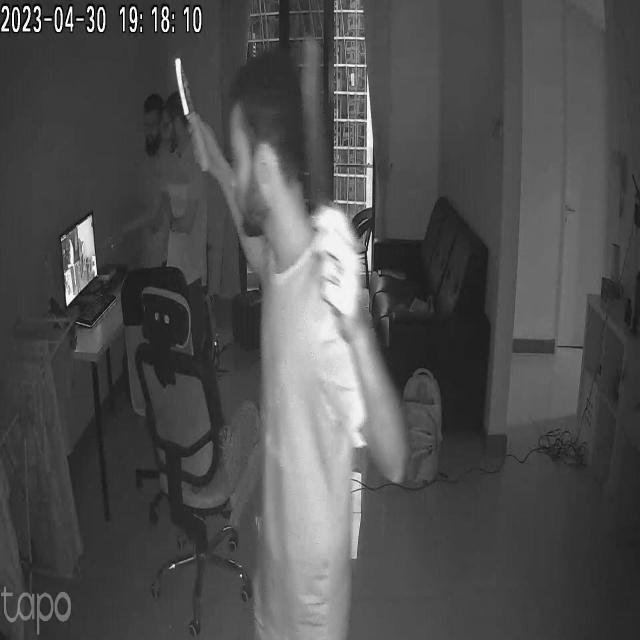Knife: (294, 38, 345, 250), (171, 54, 206, 128)
